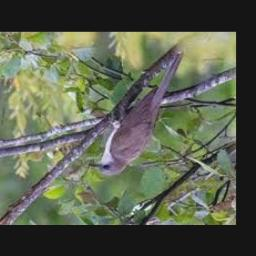Cuckoo: (90, 52, 184, 175)
